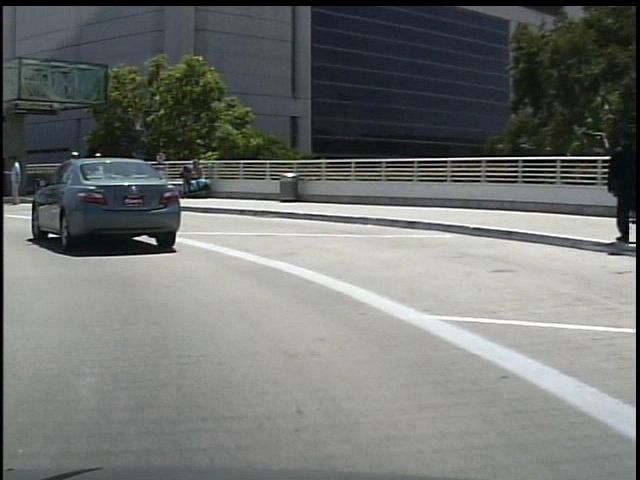person: (593, 118, 640, 252), (5, 152, 25, 209), (86, 149, 107, 202), (60, 148, 81, 200)
